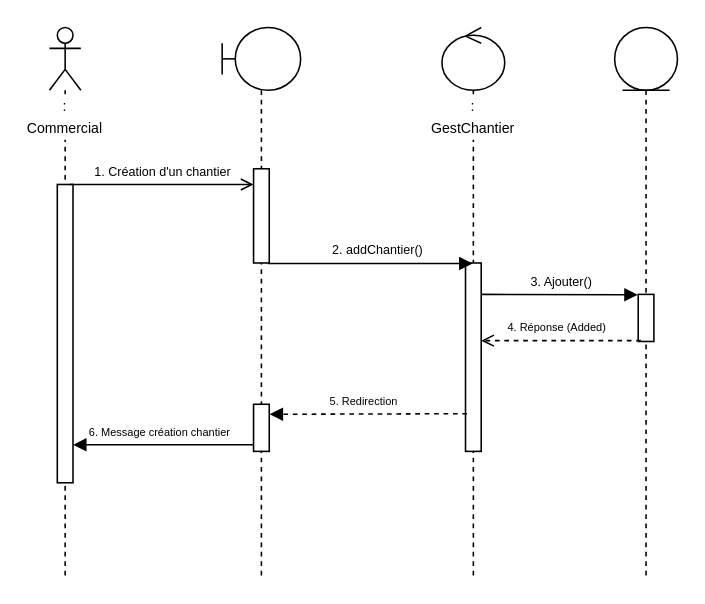
Image size: 705x604. Some labels were removed from this diagram. Each missing label, with the centre of its shape:
: Chantier: point 261,301
: SGBD: point 645,301
